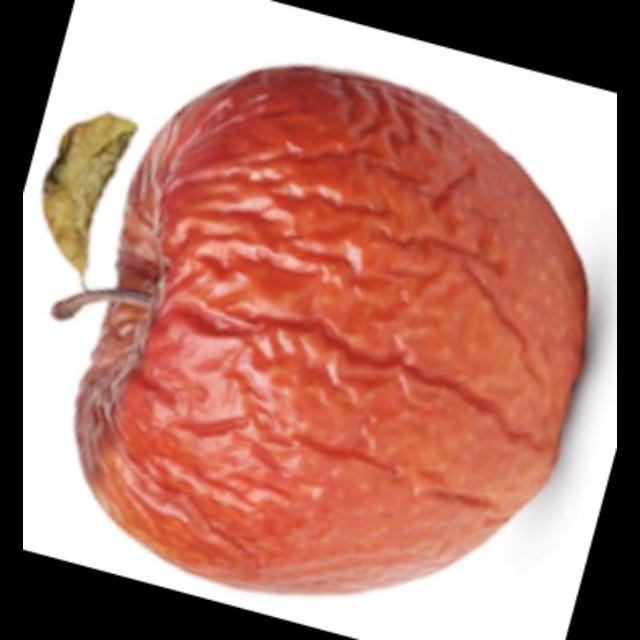Apel Tidak Segar: (54, 35, 600, 605)
